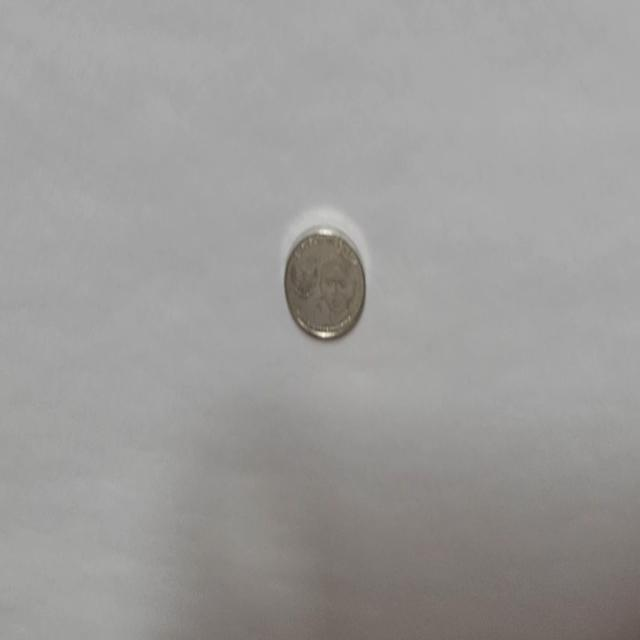dua ratus rupiah: (283, 224, 366, 340)
